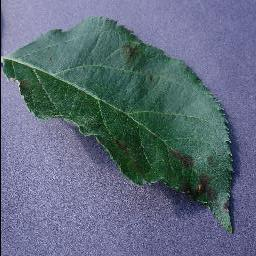apple healthy: (1, 14, 237, 235)
